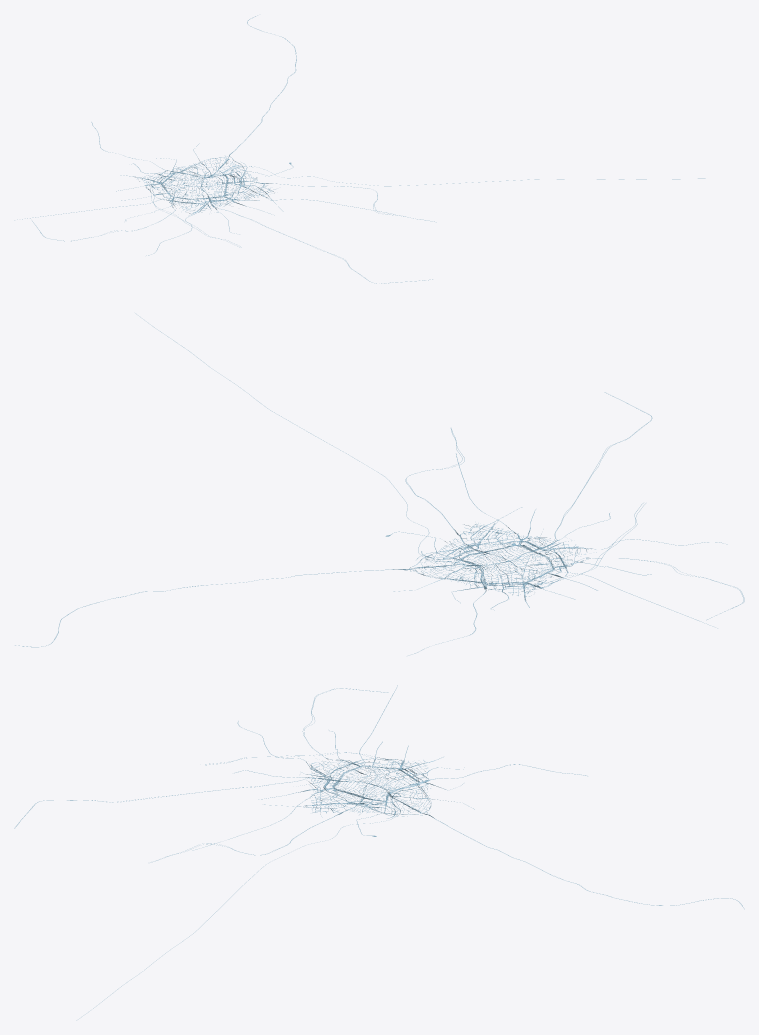
Rendered from roads.glb.
3 views of the same model, one above another, from view 1: azimuth 30°, elevation 25°; view 2: azimuth 150°, elevation 25°; view 3: azimuth 270°, elevation 25° (orthographic). The views are drawn at different scales.
Visible parts, largest first — view 1: roads; view 2: roads; view 3: roads.
Part boxes in pixels (x1,y1,x2,y2): roads: (14, 15, 705, 283); roads: (15, 313, 744, 655); roads: (14, 685, 744, 1020).
Size of the model in its own units: 16392 by 58.03 by 15131.
